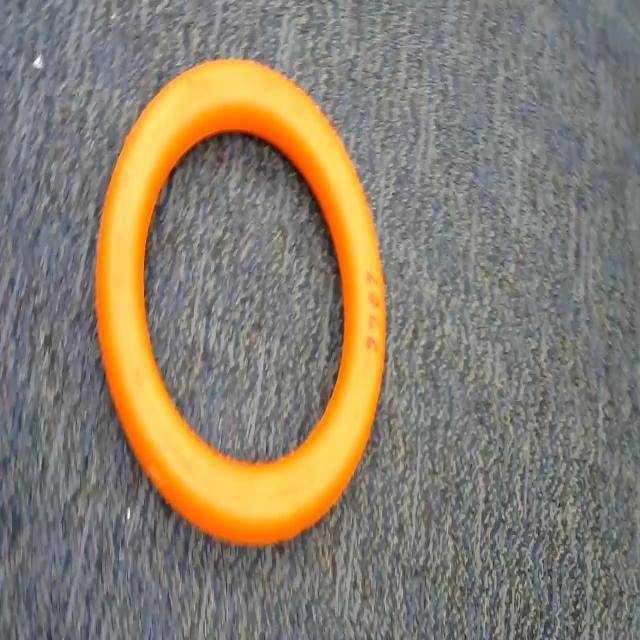note: (95, 48, 392, 573)
